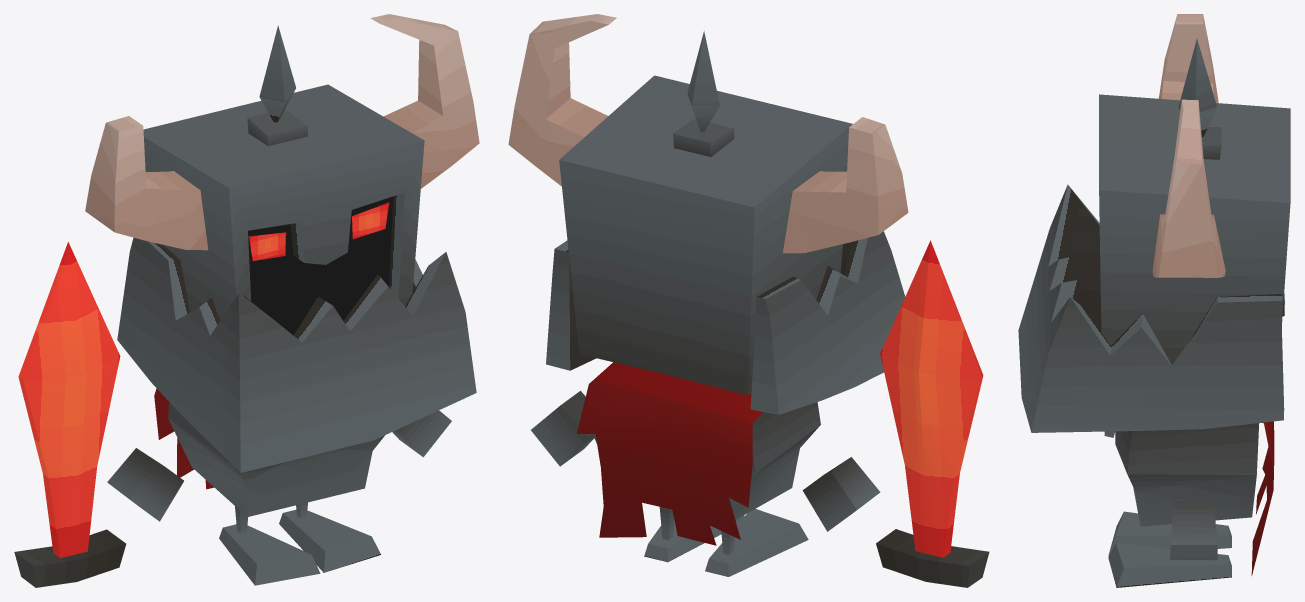
Rendered from evilKinght.glb.
3 renders of one model, left to right at view 1: azimuth 30°, elevation 25°; view 2: azimuth 150°, elevation 25°; view 3: azimuth 270°, elevation 25°, orthographic.
Parts seen in each view (by area): view 1: Evil Warrior; view 2: Evil Warrior; view 3: Evil Warrior.
Part boxes in pixels (left/top/right/bottom): Evil Warrior: left=14, top=14, right=479, bottom=587; Evil Warrior: left=508, top=14, right=989, bottom=587; Evil Warrior: left=1018, top=14, right=1290, bottom=587.
Size of the model in its own units: 1.8 by 1.98 by 0.941.
Materials: 1 (1 with a texture image).
